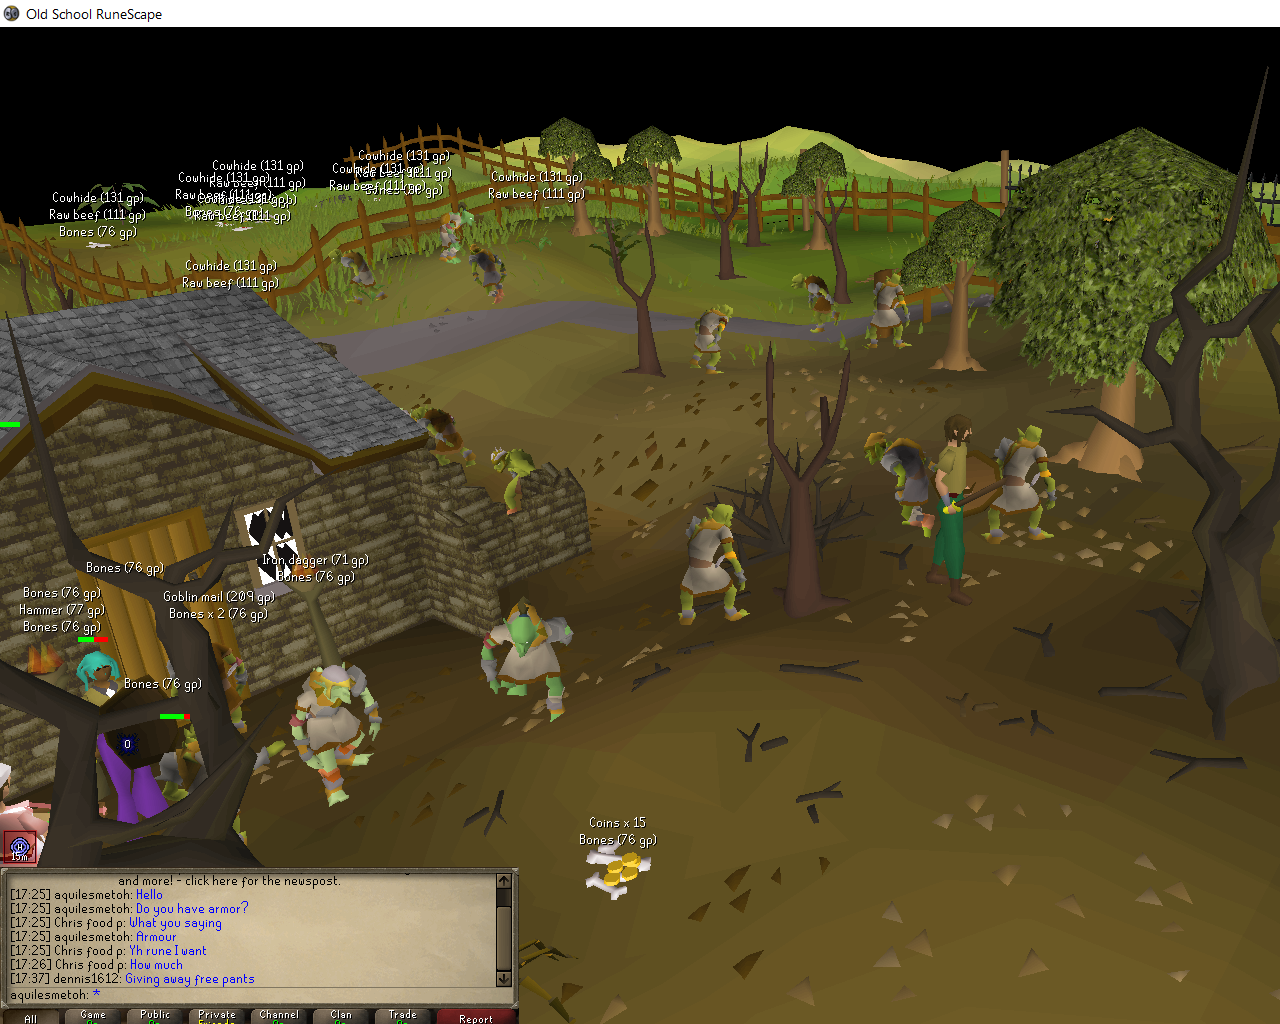Goblin: (278, 662, 405, 807), (159, 723, 262, 850), (474, 600, 581, 722), (669, 498, 762, 634), (863, 427, 955, 539), (157, 641, 255, 743), (984, 422, 1060, 546), (402, 403, 484, 466), (864, 272, 916, 352), (489, 445, 546, 517), (787, 273, 850, 336), (328, 249, 395, 307), (689, 301, 739, 376), (464, 245, 515, 307), (433, 206, 482, 267)
